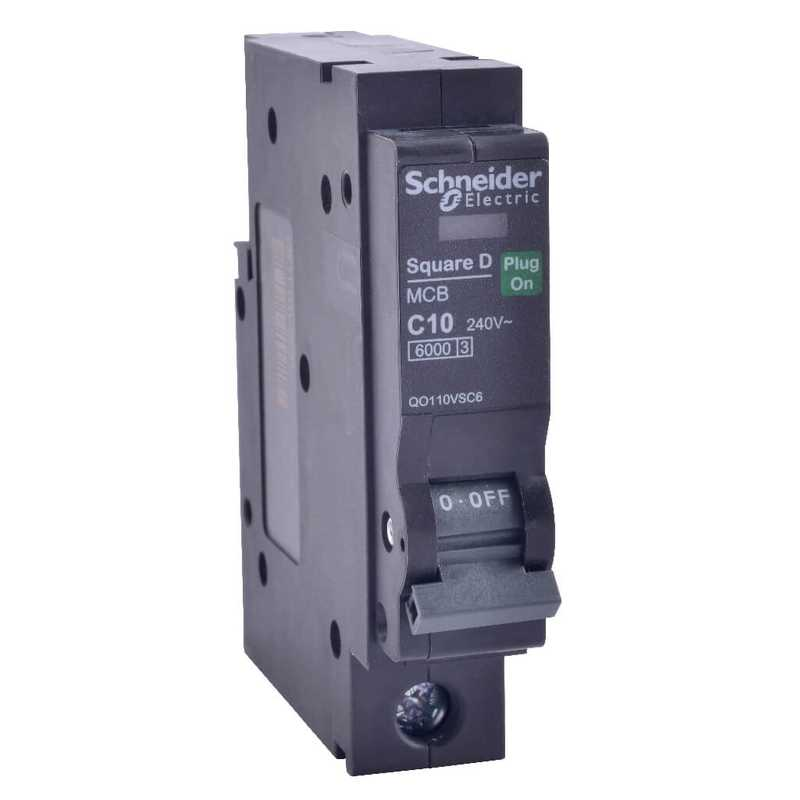BREACKER: (229, 17, 569, 781)
